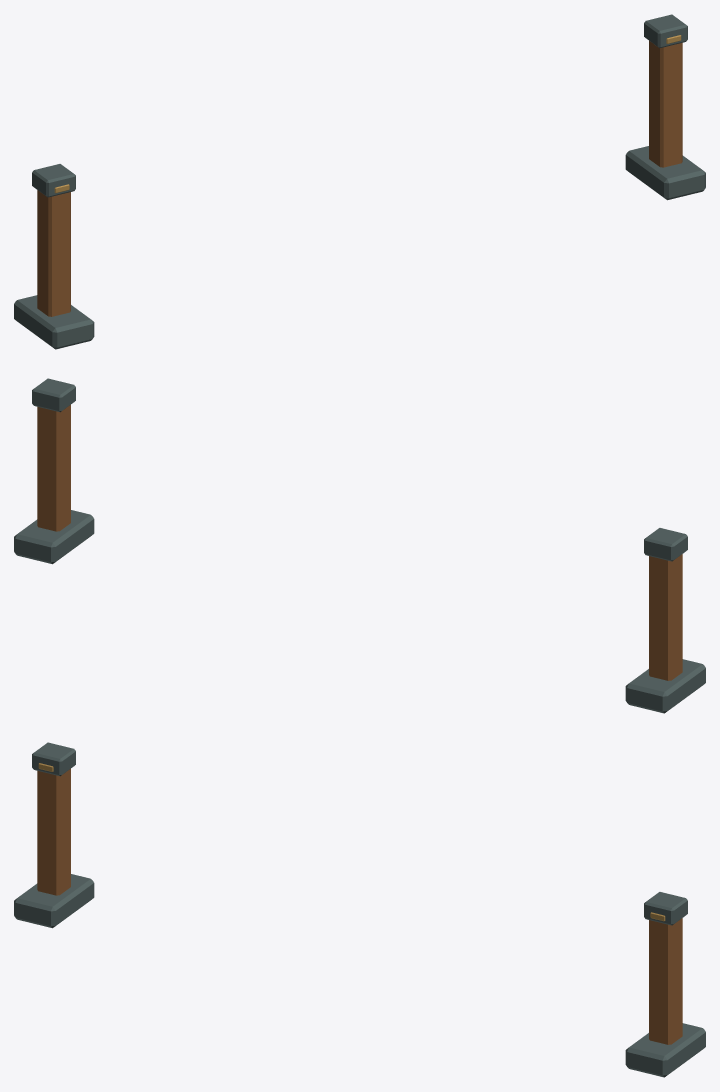
Rendered from w10b-riding-apron-stands.glb.
3 views of the same model, one above another, from view 1: azimuth 30°, elevation 25°; view 2: azimuth 150°, elevation 25°; view 3: azimuth 330°, elevation 25° (orthographic).
Visible parts, largest first — view 1: RidingBrushStand_Left, RidingBrushStand_Right; view 2: RidingBrushStand_Left, RidingBrushStand_Right; view 3: RidingBrushStand_Right, RidingBrushStand_Left.
Part boxes in pixels (x1=…): RidingBrushStand_Left: x1=14, y1=164, x2=94, y2=349; RidingBrushStand_Right: x1=625, y1=14, x2=705, y2=200; RidingBrushStand_Left: x1=625, y1=528, x2=705, y2=713; RidingBrushStand_Right: x1=14, y1=378, x2=94, y2=564; RidingBrushStand_Right: x1=625, y1=892, x2=705, y2=1077; RidingBrushStand_Left: x1=14, y1=742, x2=94, y2=928.
Size of the model in its own units: 4.13 by 0.9625 by 0.46.
